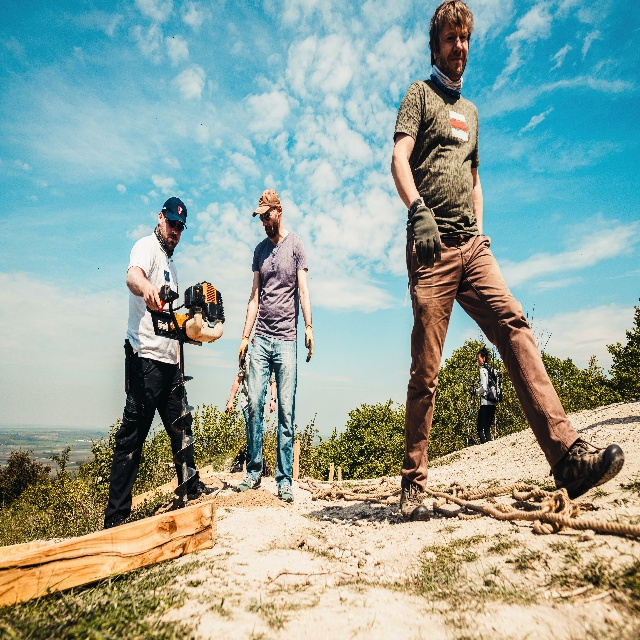Gafas: (162, 213, 184, 232), (259, 211, 274, 221)
Guantes: (410, 206, 444, 266), (237, 338, 250, 373), (305, 326, 314, 364), (470, 387, 476, 395)
Sin_guantes: (144, 282, 161, 310), (226, 399, 233, 414), (268, 400, 276, 413)
